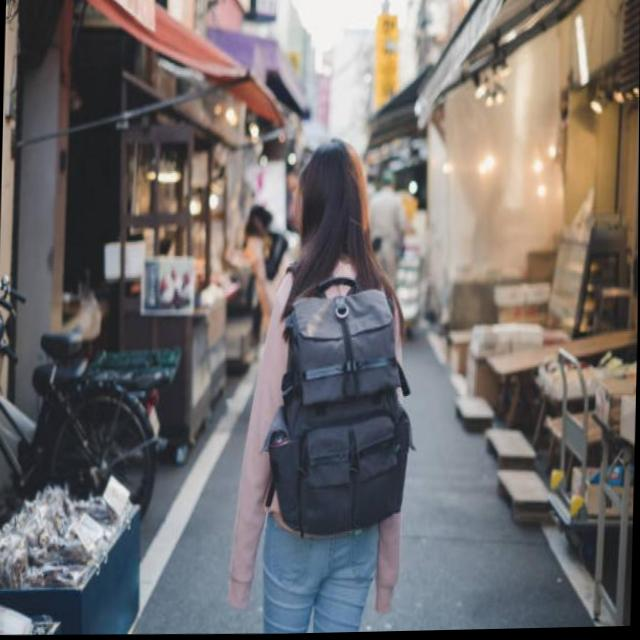no helmet: (268, 129, 389, 287)
